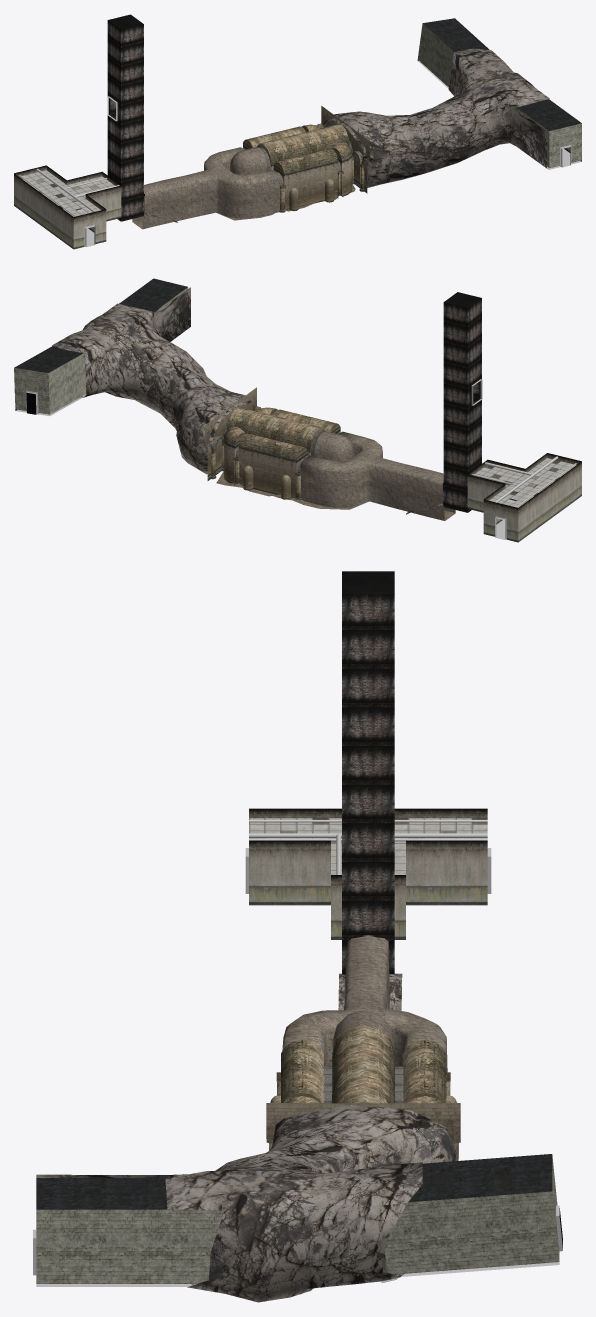
File: Underground_Room.FBX
3 views of the same model, one above another, from view 1: azimuth 30°, elevation 25°; view 2: azimuth 150°, elevation 25°; view 3: azimuth 270°, elevation 25° (orthographic). The views are drawn at different scales.
Visible parts, largest first — view 1: HH-under_ground_chamber_END, HH-under_ground_Rock_END, HH-Elevator_Room_END, HH-under_ground_broken_hall_END; view 2: HH-under_ground_chamber_END, HH-Elevator_Room_END, HH-under_ground_Rock_END, HH-under_ground_broken_hall_END; view 3: HH-Elevator_Room_END, HH-under_ground_Rock_END, HH-under_ground_broken_hall_END, HH-under_ground_chamber_END.
Boxes of the visible parts, x1,y1,x2,y2 form: HH-under_ground_chamber_END: (132,106,370,229); HH-under_ground_Rock_END: (323,48,549,187); HH-Elevator_Room_END: (14,14,144,249); HH-under_ground_broken_hall_END: (417,18,581,169); HH-under_ground_chamber_END: (205,387,455,520); HH-Elevator_Room_END: (442,292,581,542); HH-under_ground_Rock_END: (52,287,254,474); HH-under_ground_broken_hall_END: (14,278,188,416); HH-Elevator_Room_END: (245,571,491,974); HH-under_ground_Rock_END: (36,1104,458,1302); HH-under_ground_broken_hall_END: (33,1154,562,1286); HH-under_ground_chamber_END: (266,935,460,1160).
Size of what is drawn, in the model's own units: 15655 by 6687 by 7770.
